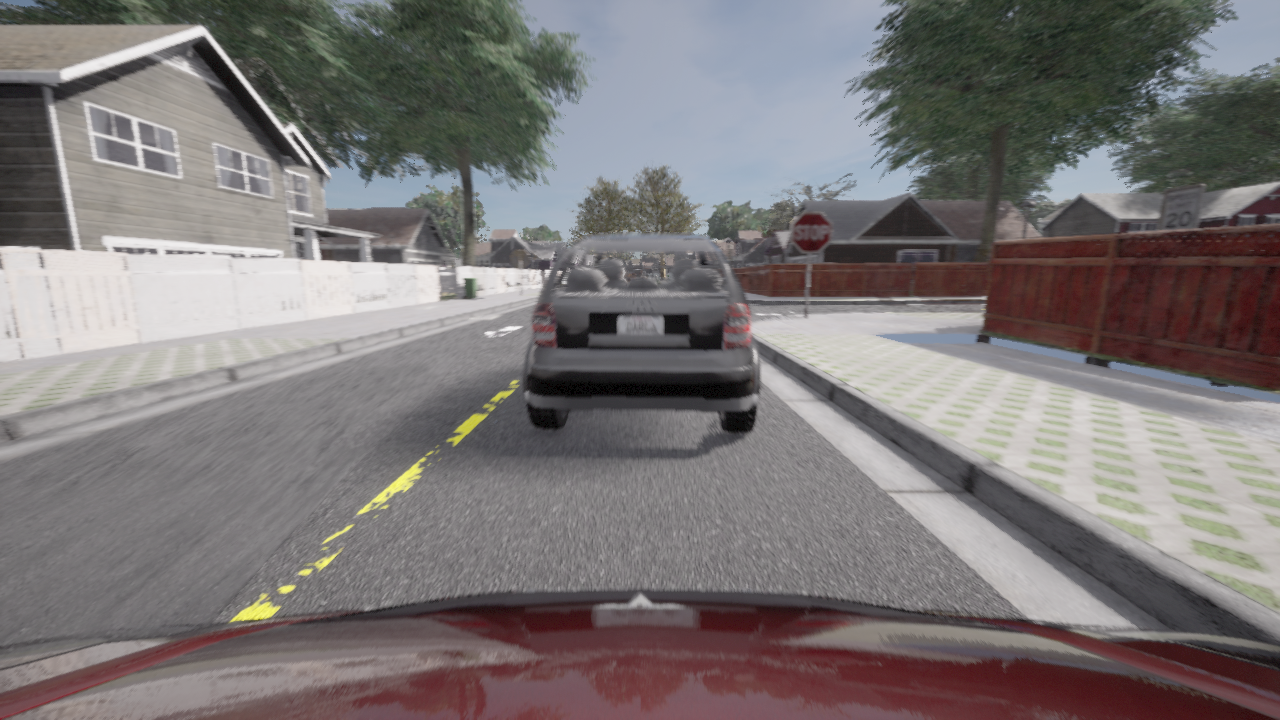cyclist: (0, 588, 1279, 719), (524, 234, 760, 433)
